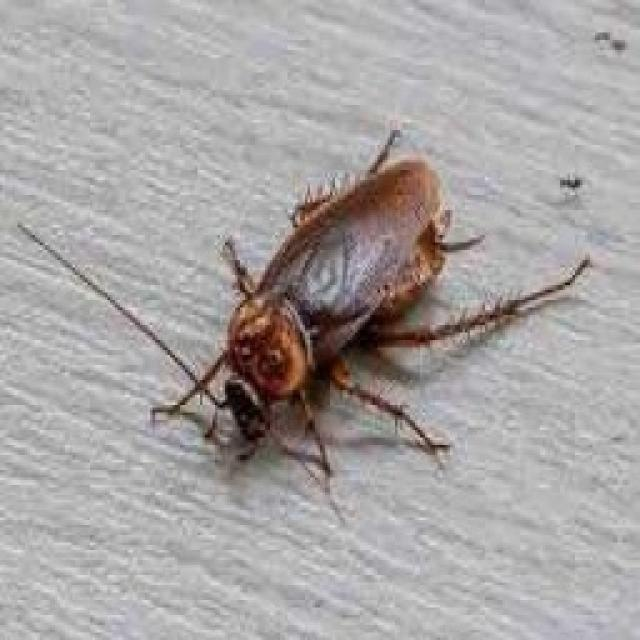cockroach: (163, 76, 507, 482)
